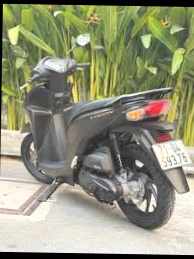Bien-so: (152, 138, 194, 172)
